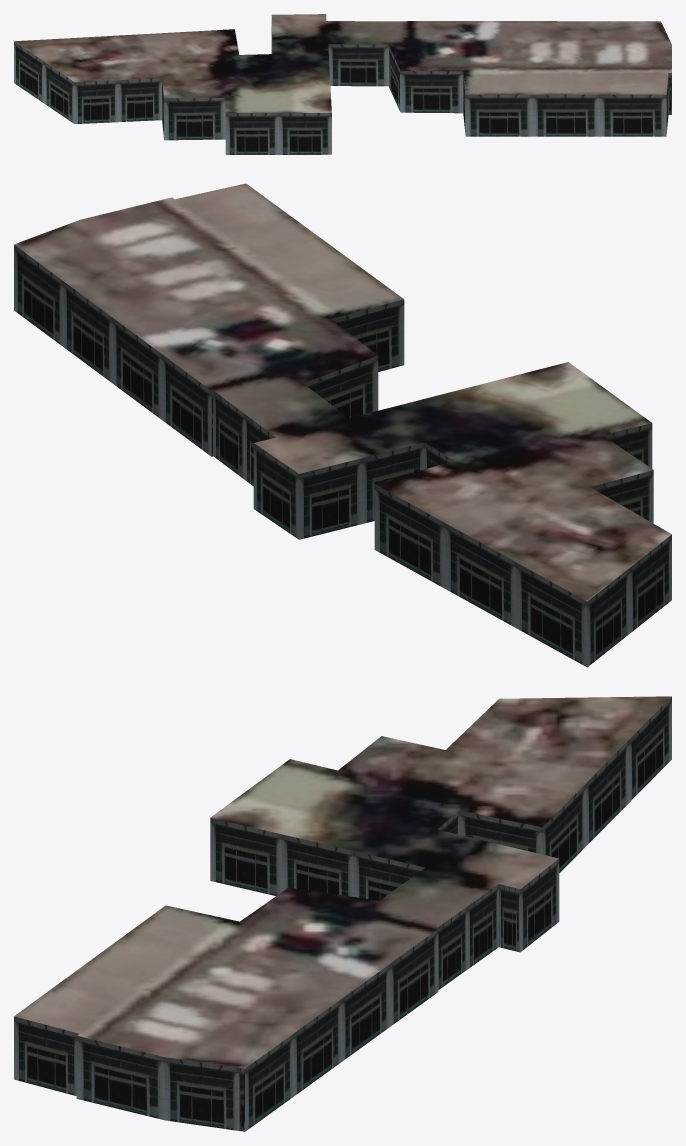
3 renders of one model, top to bottom at view 1: azimuth 30°, elevation 25°; view 2: azimuth 150°, elevation 25°; view 3: azimuth 270°, elevation 25°, orthographic. The views are drawn at different scales.
Parts seen in each view (by area): view 1: SketchUp (×9); view 2: SketchUp (×11); view 3: SketchUp (×11).
Part boxes in pixels (left/top/right/bottom): SketchUp (×9): left=14, top=14, right=671, bottom=154; SketchUp (×11): left=14, top=183, right=671, bottom=667; SketchUp (×11): left=14, top=696, right=671, bottom=1131.
Bounding box in the file's own units: 45.73 × 34.16 × 3.62.
2 materials, 2 textured.
